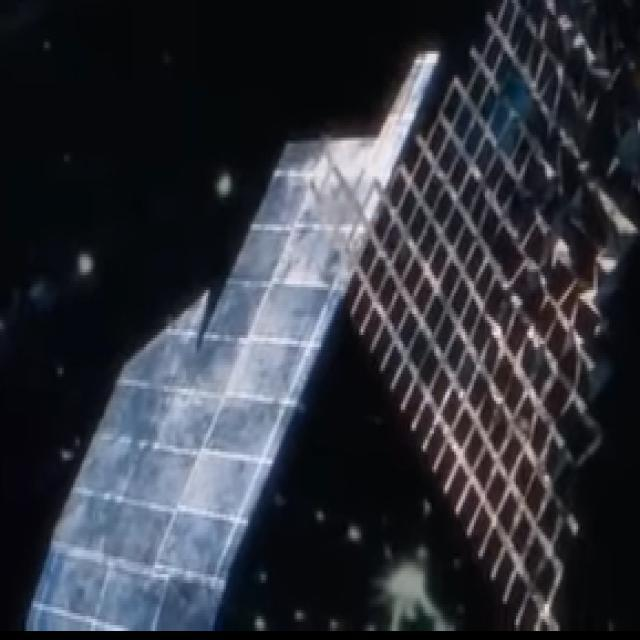large_debris: (16, 26, 446, 640), (334, 3, 640, 640)
